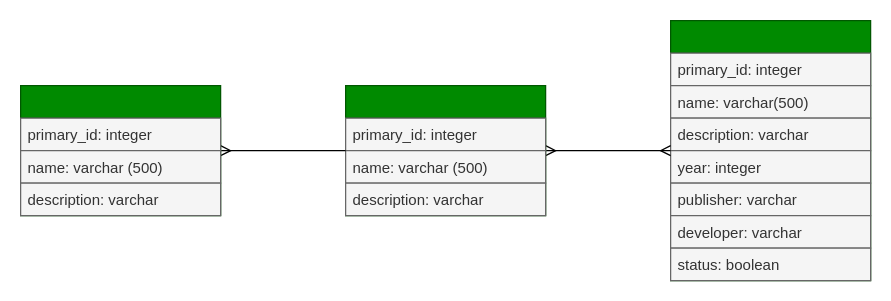
The diagram is 891 pixels wide and 301 high, and some of its shapes have lost their labels. The box of each missing label's shape, as (x1, y1, x2, y2) in pixels:
category: (19, 84, 221, 216)
game: (669, 19, 871, 281)
subcategory: (344, 84, 546, 216)
